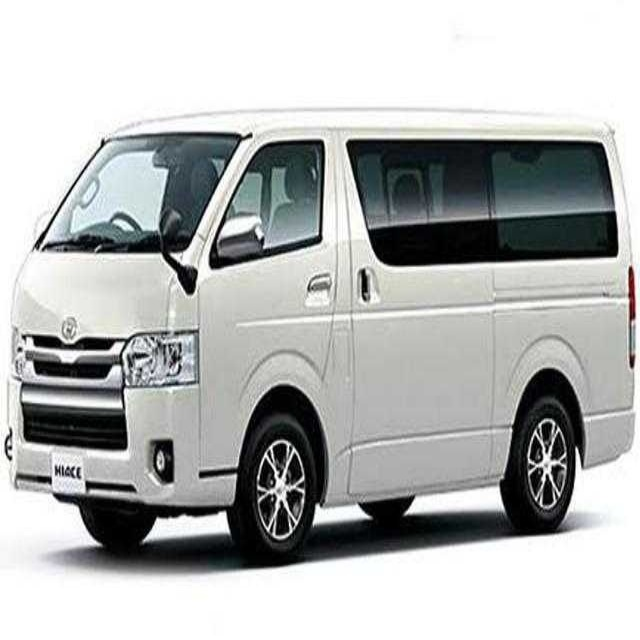Van: (8, 111, 633, 567)
